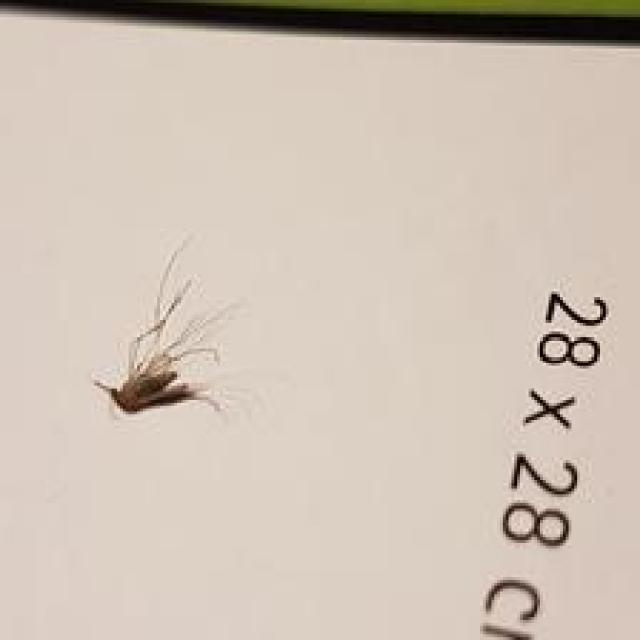Culex: (90, 237, 247, 420)
